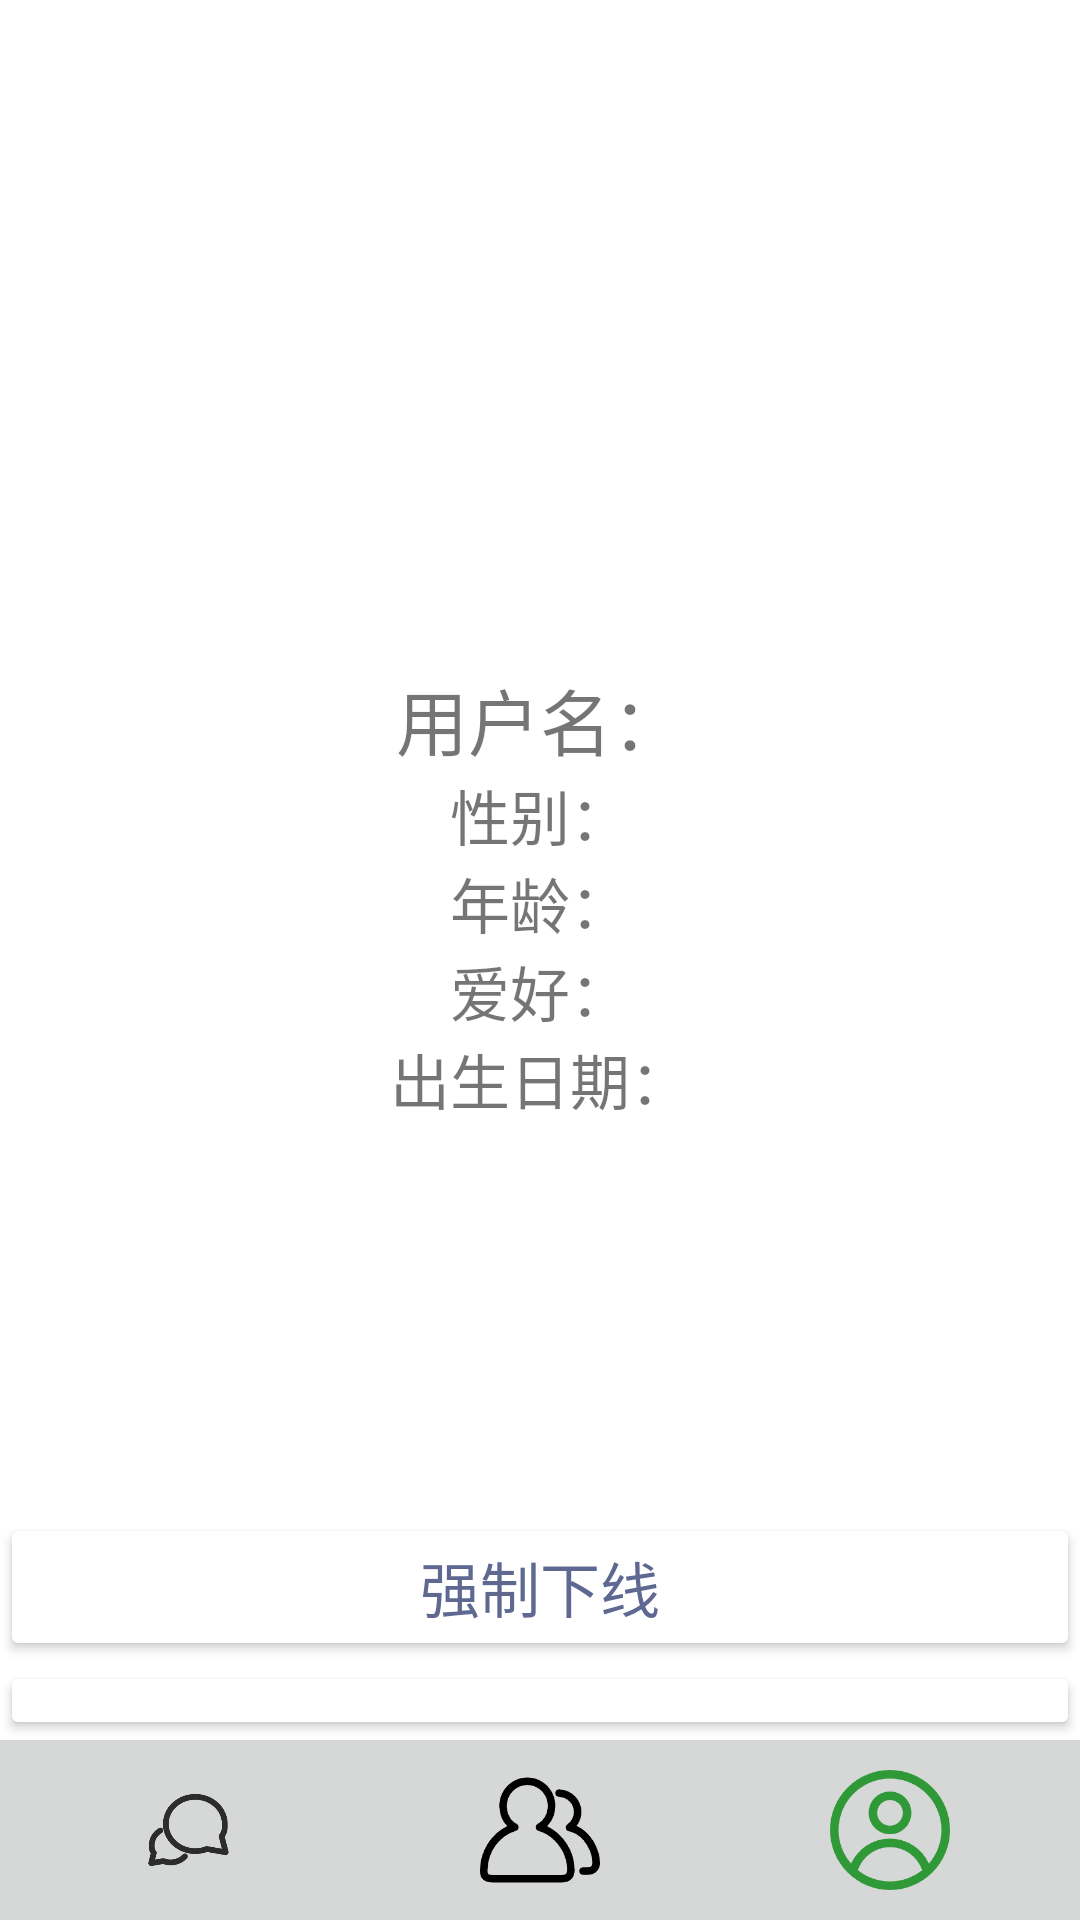

Named icons in this screenshot (1080px×1920px) and their centers, (x=x, y=y):
chat: (x=188, y=1830)
friends: (x=540, y=1830)
